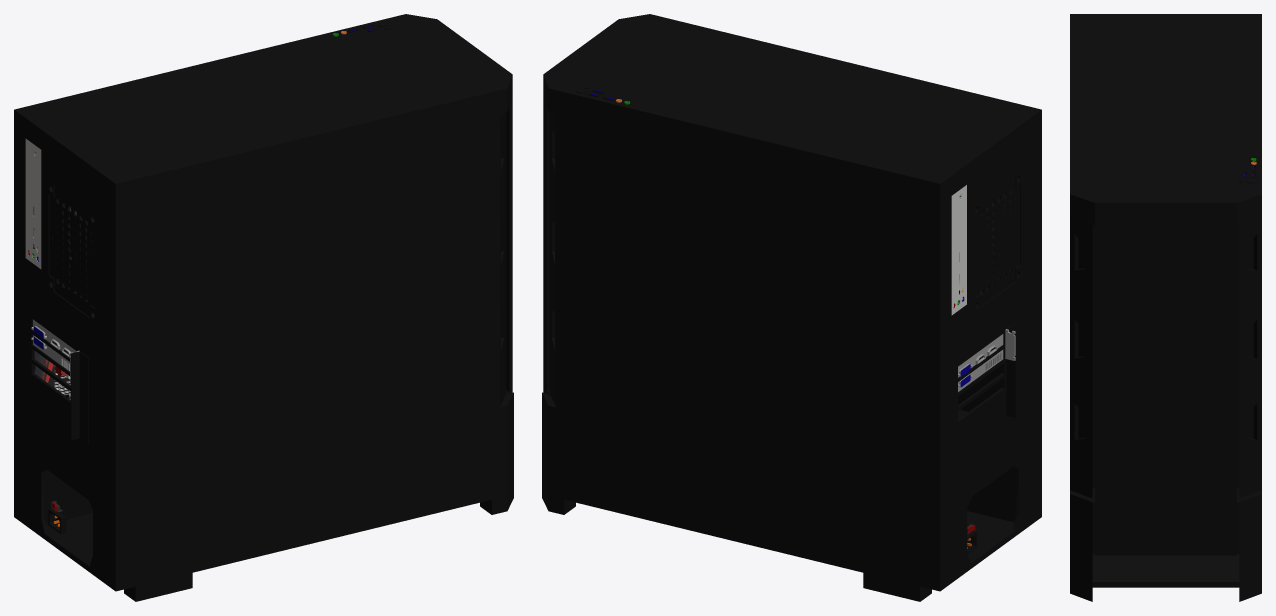
Rendered from PK_GOTOVO.fbx.
3 renders of one model, left to right at view 1: azimuth 30°, elevation 25°; view 2: azimuth 150°, elevation 25°; view 3: azimuth 270°, elevation 25°, orthographic. The views are drawn at different scales.
Parts seen in each view (by area): view 1: Korpys, Kryshka_pered, Panel, BP, kreplenie, Mater_plata; view 2: Kryshka_zad, Korpys, BP, Panel, Plane.050, Kryshka_pered, kreplenie; view 3: Korpys.
Boxes of the visible parts, <box> form: Korpys: <box>14,14,513,601</box>; Kryshka_pered: <box>118,97,491,502</box>; Panel: <box>25,138,41,268</box>; BP: <box>44,470,92,534</box>; kreplenie: <box>70,351,88,444</box>; Mater_plata: <box>28,150,76,399</box>; Kryshka_zad: <box>564,97,937,584</box>; Korpys: <box>542,14,1041,601</box>; BP: <box>967,466,1015,553</box>; Panel: <box>951,185,966,315</box>; Plane.050: <box>958,329,1015,391</box>; Kryshka_pered: <box>958,212,1001,411</box>; kreplenie: <box>1006,323,1015,417</box>; Korpys: <box>1070,14,1261,601</box>.
Size of the model in its own units: 0.5481 by 0.5299 by 0.23.
